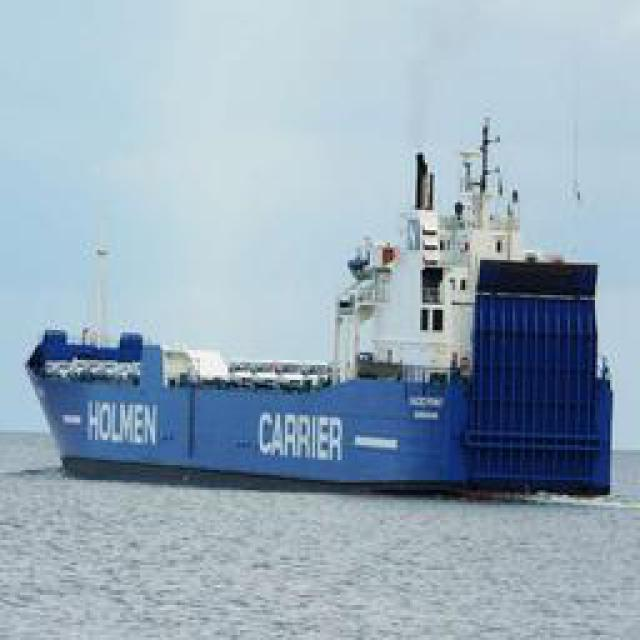Ship: (32, 105, 625, 498)
